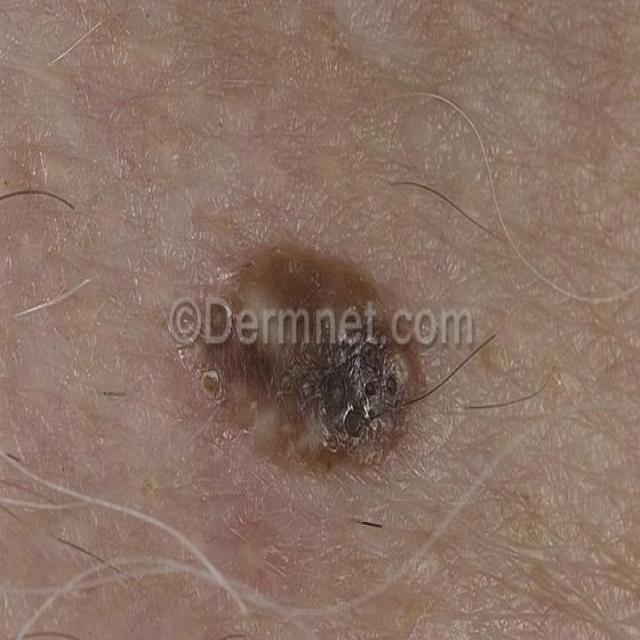Eczema: (146, 194, 414, 526)
